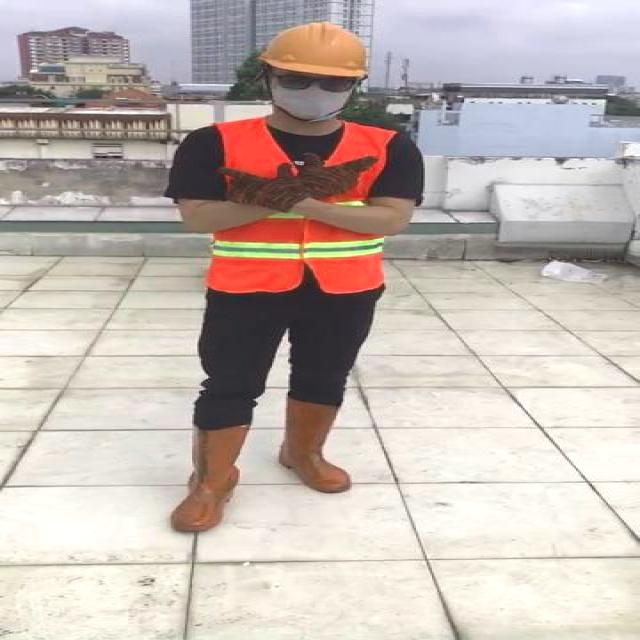boots: (171, 425, 249, 531), (276, 399, 350, 493)
face_mask: (268, 70, 362, 120)
glasses: (272, 68, 363, 94)
hand_glove: (292, 153, 375, 197), (220, 164, 294, 210)
head_helmet: (250, 18, 380, 78)
person: (154, 19, 433, 536)
vest: (204, 120, 398, 295)
